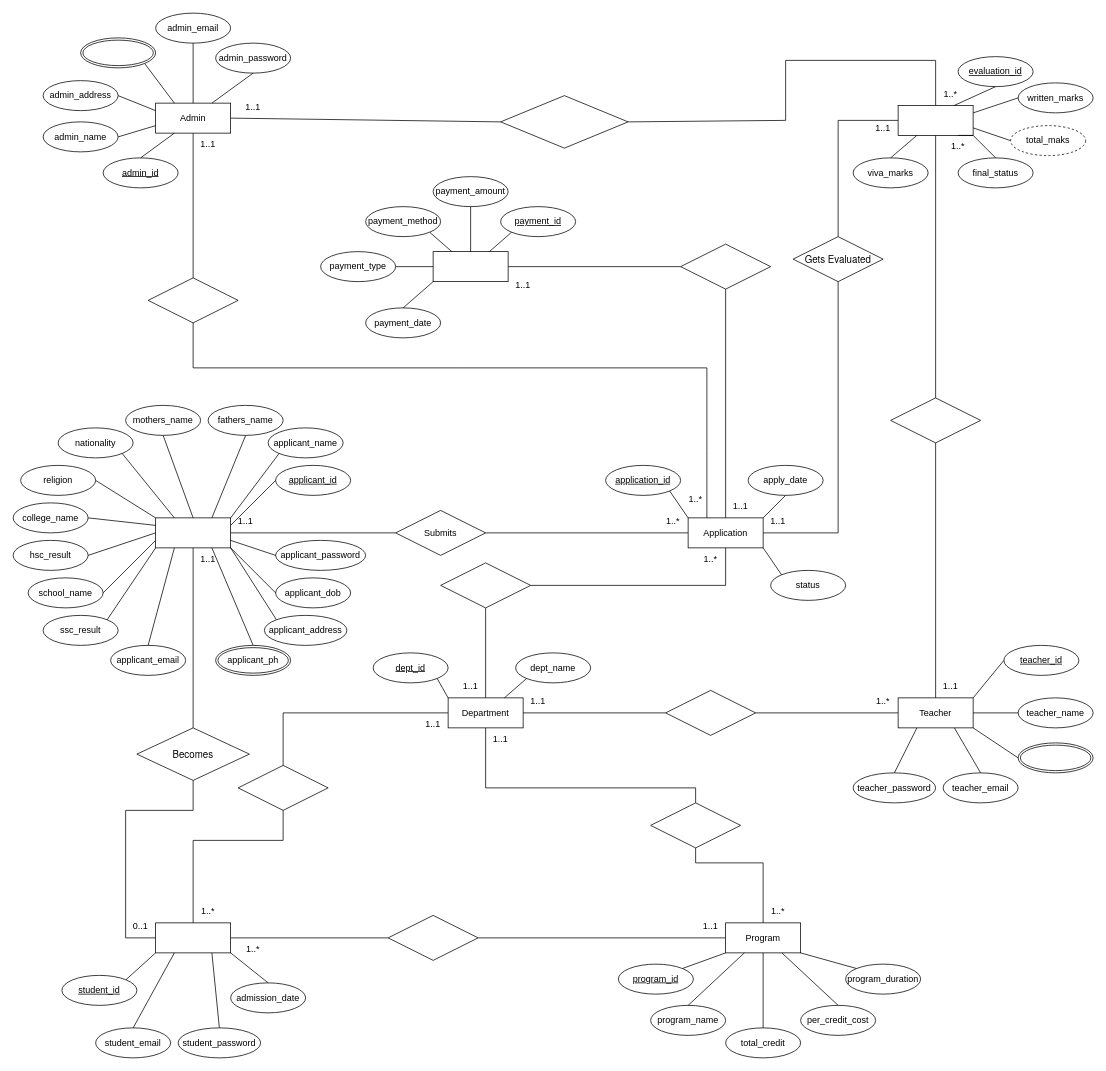
Some shapes in this 1106 by 1071 pixel diagram are drawn without their labels. Each missing label, with the centre of its shape:
"admin_ph" goes at (x=118, y=52).
"Applicant" goes at (x=193, y=532).
"Approves" goes at (x=192, y=300).
"Assigns" goes at (x=710, y=712).
"Belongs To" goes at (x=282, y=787).
"Enrolled In" goes at (x=432, y=937).
"Evaluates" goes at (x=935, y=420).
"Evaluation" goes at (x=935, y=120).
"Includes" goes at (x=725, y=266).
"Offers" goes at (x=695, y=825).
"Payment" goes at (x=470, y=266).
"Publishes" goes at (x=564, y=121).
"Receives" goes at (x=485, y=585).
"Student" goes at (x=193, y=937).
"teacher_ph" goes at (x=1055, y=757).
